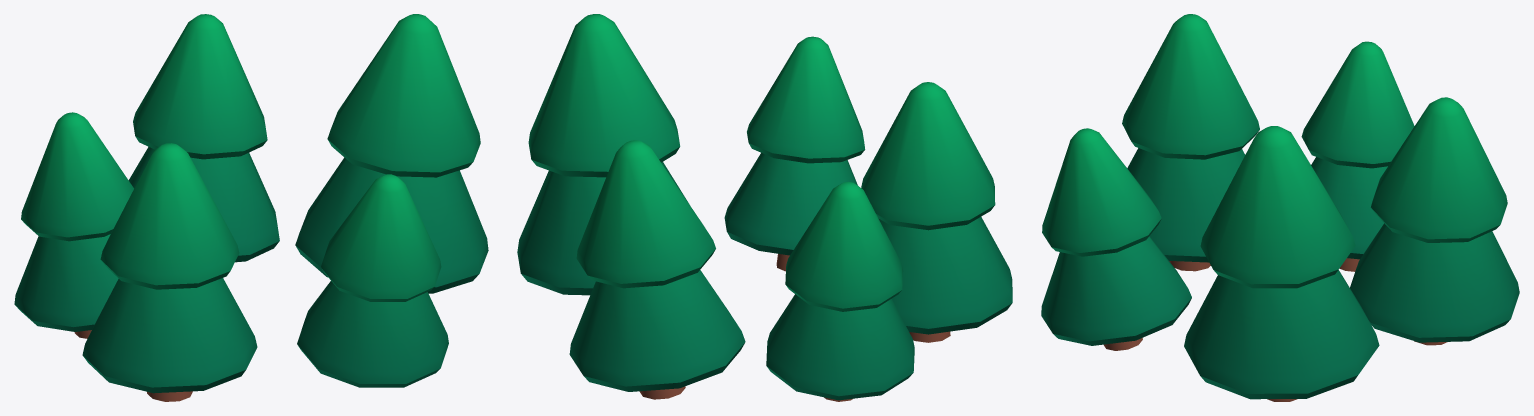
Rendered from forest_b.glb.
3 views of the same model, side by side, from view 1: azimuth 30°, elevation 25°; view 2: azimuth 150°, elevation 25°; view 3: azimuth 270°, elevation 25° (orthographic).
Parts seen in each view (by area): view 1: trees_B_medium; view 2: trees_B_medium; view 3: trees_B_medium.
Boxes of the visible parts, left/top/right/bottom form: trees_B_medium: left=14, top=14, right=488, bottom=401; trees_B_medium: left=517, top=14, right=1012, bottom=401; trees_B_medium: left=1041, top=14, right=1519, bottom=401.
Bounding box in the file's own units: 1.86 × 1.17 × 1.83.
1 material, 1 textured.
